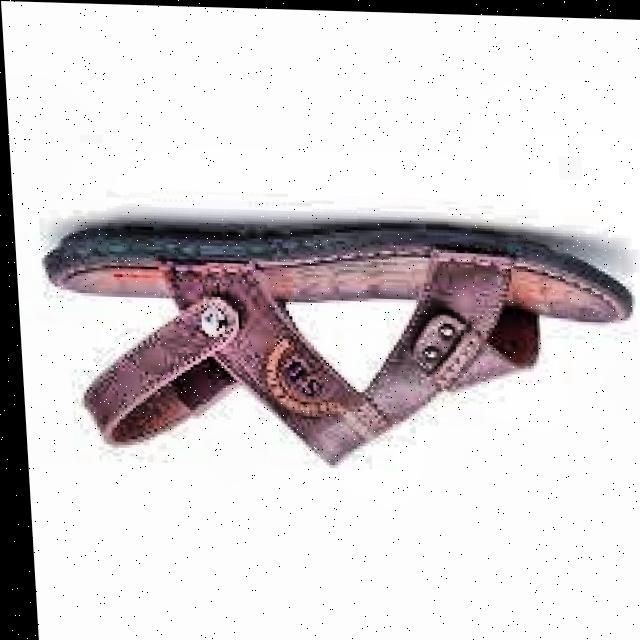shoes: (34, 188, 640, 498)
